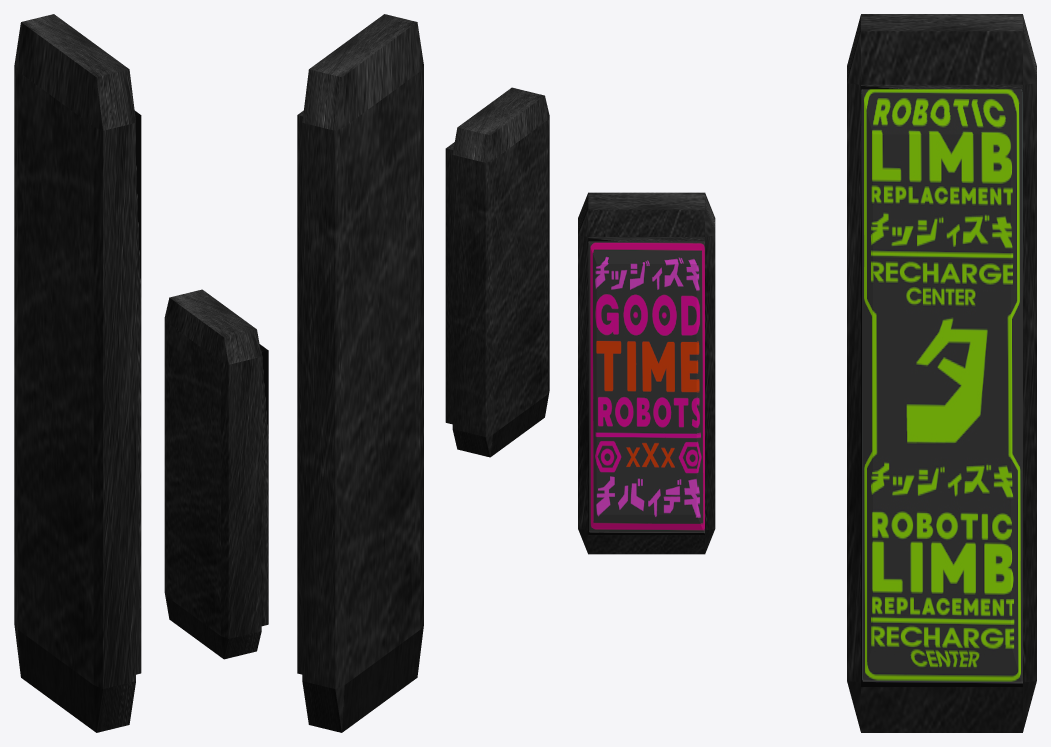
Rendered from bglhodeletra.obj.
The picture shows the model from 3 angles, left to right: view 1: azimuth 30°, elevation 25°; view 2: azimuth 150°, elevation 25°; view 3: azimuth 270°, elevation 25°; orthographic projection. The views are drawn at different scales.
Parts seen in each view (by area): view 1: Cube.001, Cube; view 2: Cube.001, Cube; view 3: Cube.001, Cube.
Part boxes in pixels (x1,y1,x2,y2): Cube.001: (14, 14, 141, 732); Cube: (164, 289, 268, 659); Cube.001: (297, 14, 423, 732); Cube: (445, 87, 549, 457); Cube.001: (847, 14, 1036, 732); Cube: (578, 192, 715, 554).
Bounding box in the file's own units: 0.8994 × 11.28 × 6.69.
